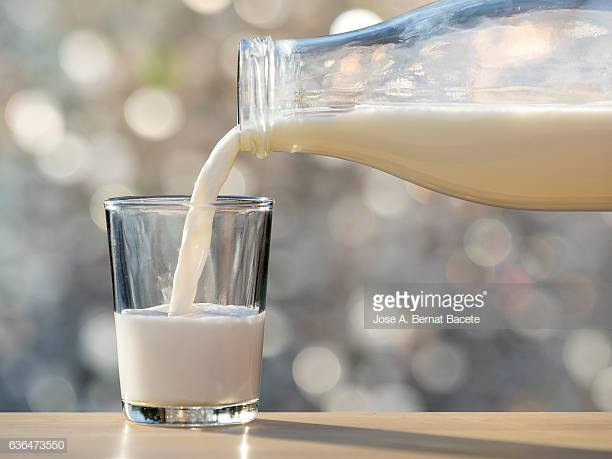glass of milk: (105, 199, 270, 432)
